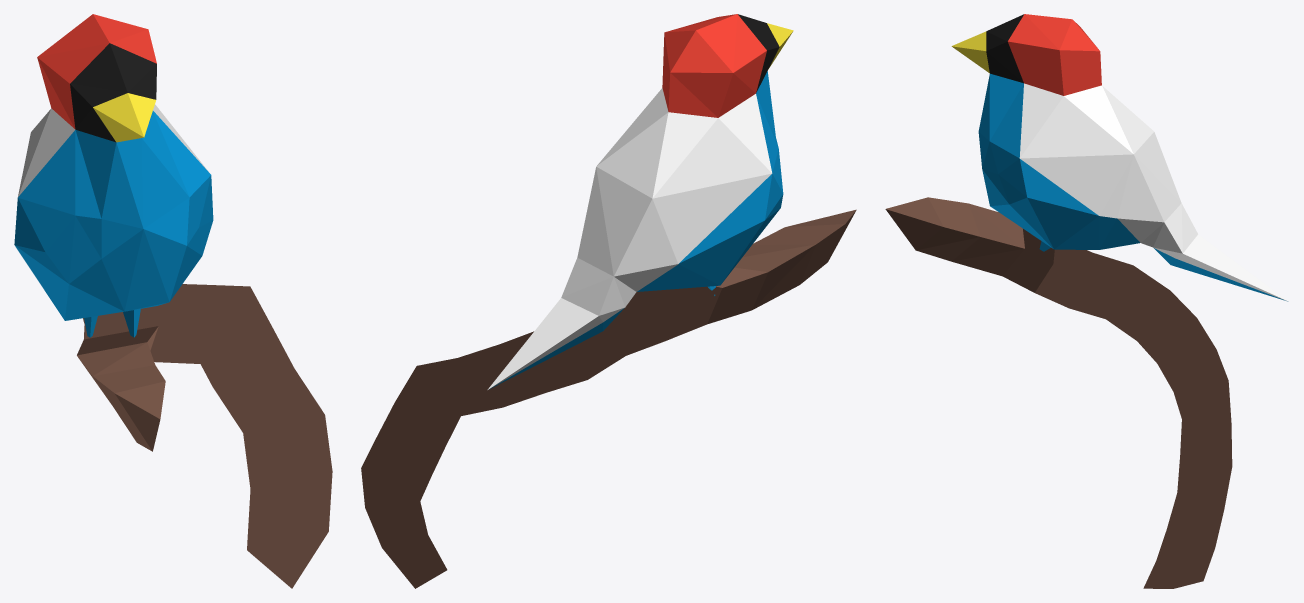
Rendered from bird.glb.
3 views of the same model, side by side, from view 1: azimuth 30°, elevation 25°; view 2: azimuth 150°, elevation 25°; view 3: azimuth 270°, elevation 25° (orthographic). The views are drawn at different scales.
Parts seen in each view (by area): view 1: Node; view 2: Node; view 3: Node.
Part boxes in pixels (x1,y1,x2,y2): Node: (14,14,332,588); Node: (361,14,856,588); Node: (885,14,1288,588).
Size of the model in its own units: 0.3324 by 0.5313 by 0.4036.
